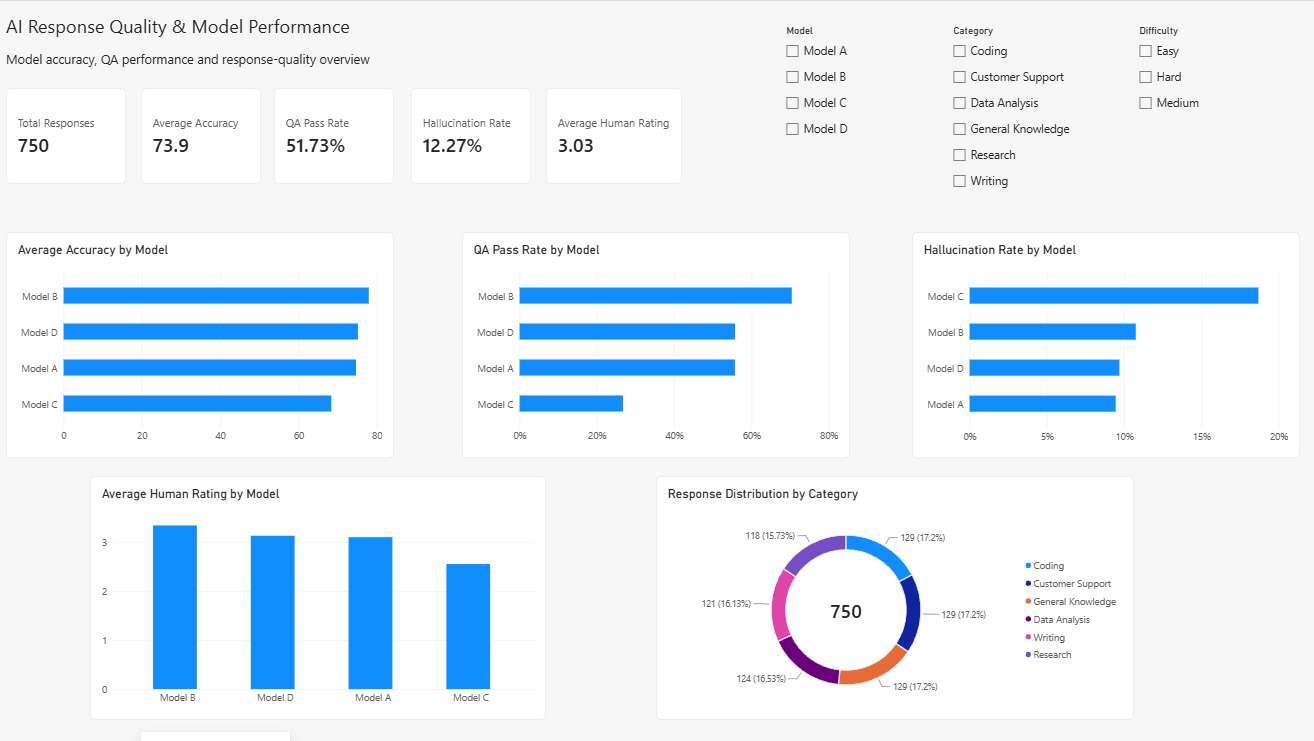

This screenshot's page, from the dashboard's own definition file:
{"tool":"powerbi","page":{"name":"AI Performance Overview","canvas":[1920,1080],"ordinal":0},"visuals":[{"type":"cardVisual","fields":{"Data":["AI Responses.Total Responses"]},"box":[11.7,126.9,175.1,140.1],"z":0},{"type":"cardVisual","fields":{"Data":["AI Responses.Average Accuracy"]},"box":[208.6,126.9,175.1,140.1],"z":1},{"type":"cardVisual","fields":{"Data":["AI Responses.QA Pass Rate"]},"box":[402.7,126.9,175.1,140.1],"z":2},{"type":"cardVisual","fields":{"Data":["AI Responses.Hallucination Rate"]},"box":[602.6,126.9,175.1,140.1],"z":3},{"type":"cardVisual","fields":{"Data":["AI Responses.Average Human Rating"]},"box":[799.5,126.9,198.4,140.1],"z":4},{"type":"barChart","fields":{"Category":["AI Responses.Model"],"Y":["AI Responses.Average Accuracy"]},"box":[11.7,337,566.1,329.7],"z":5},{"type":"barChart","fields":{"Category":["AI Responses.Model"],"Y":["AI Responses.QA Pass Rate"]},"box":[677,337,566.1,329.7],"z":6},{"type":"barChart","fields":{"Category":["AI Responses.Model"],"Y":["AI Responses.Hallucination Rate"]},"box":[1333.5,337,566,330],"z":7},{"type":"columnChart","fields":{"Category":["AI Responses.Model"],"Y":["AI Responses.Average Human Rating"]},"box":[134.2,693,665.3,356],"z":8},{"type":"donutChart","title":"Response Distribution by Category","fields":{"Category":["AI Responses.Category"],"Y":["AI Responses.Total Responses"]},"box":[960,693,697.4,356],"z":9},{"type":"slicer","fields":{"Values":["AI Responses.Model"]},"box":[1142.4,35,191.1,259.7],"z":10},{"type":"slicer","fields":{"Values":["AI Responses.Category"]},"box":[1386,35,208.6,259.7],"z":11},{"type":"slicer","fields":{"Values":["AI Responses.Difficulty"]},"box":[1657.4,35,262.6,259.7],"z":12},{"type":"textbox","box":[11.7,17.5,913.3,96.3],"z":13}]}

Visuals, with their boxes in screenshot pixels (x1, y1, x2, y2), scaled from the page's 1920x1080 canvas onto the 1314x741 screenshot:
cardVisual - AI Responses.Total Responses: [8,87,128,183]
cardVisual - AI Responses.Average Accuracy: [143,87,263,183]
cardVisual - AI Responses.QA Pass Rate: [276,87,395,183]
cardVisual - AI Responses.Hallucination Rate: [412,87,532,183]
cardVisual - AI Responses.Average Human Rating: [547,87,683,183]
barChart - AI Responses.Model x AI Responses.Average Accuracy: [8,231,395,457]
barChart - AI Responses.Model x AI Responses.QA Pass Rate: [463,231,851,457]
barChart - AI Responses.Model x AI Responses.Hallucination Rate: [913,231,1300,458]
columnChart - AI Responses.Model x AI Responses.Average Human Rating: [92,475,547,720]
"Response Distribution by Category" donutChart: [657,475,1134,720]
slicer - AI Responses.Model: [782,24,913,202]
slicer - AI Responses.Category: [949,24,1091,202]
slicer - AI Responses.Difficulty: [1134,24,1313,202]
textbox: [8,12,633,78]
